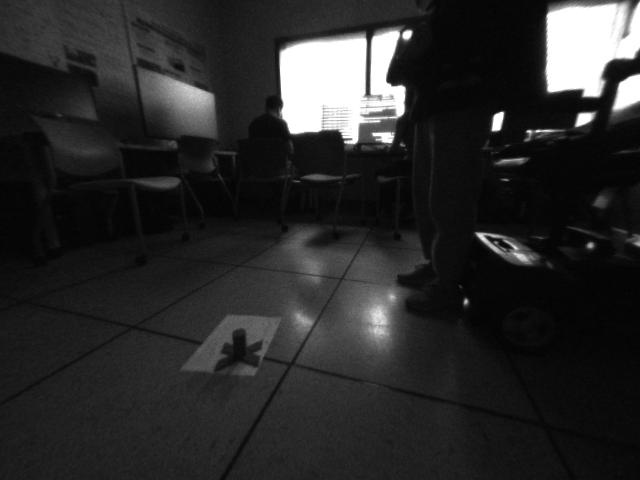x: (213, 325, 267, 377)
